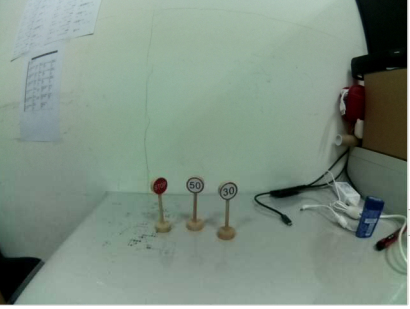Speed30: (215, 180, 240, 203)
Speed50: (184, 176, 208, 196)
Stop: (150, 174, 170, 196)
